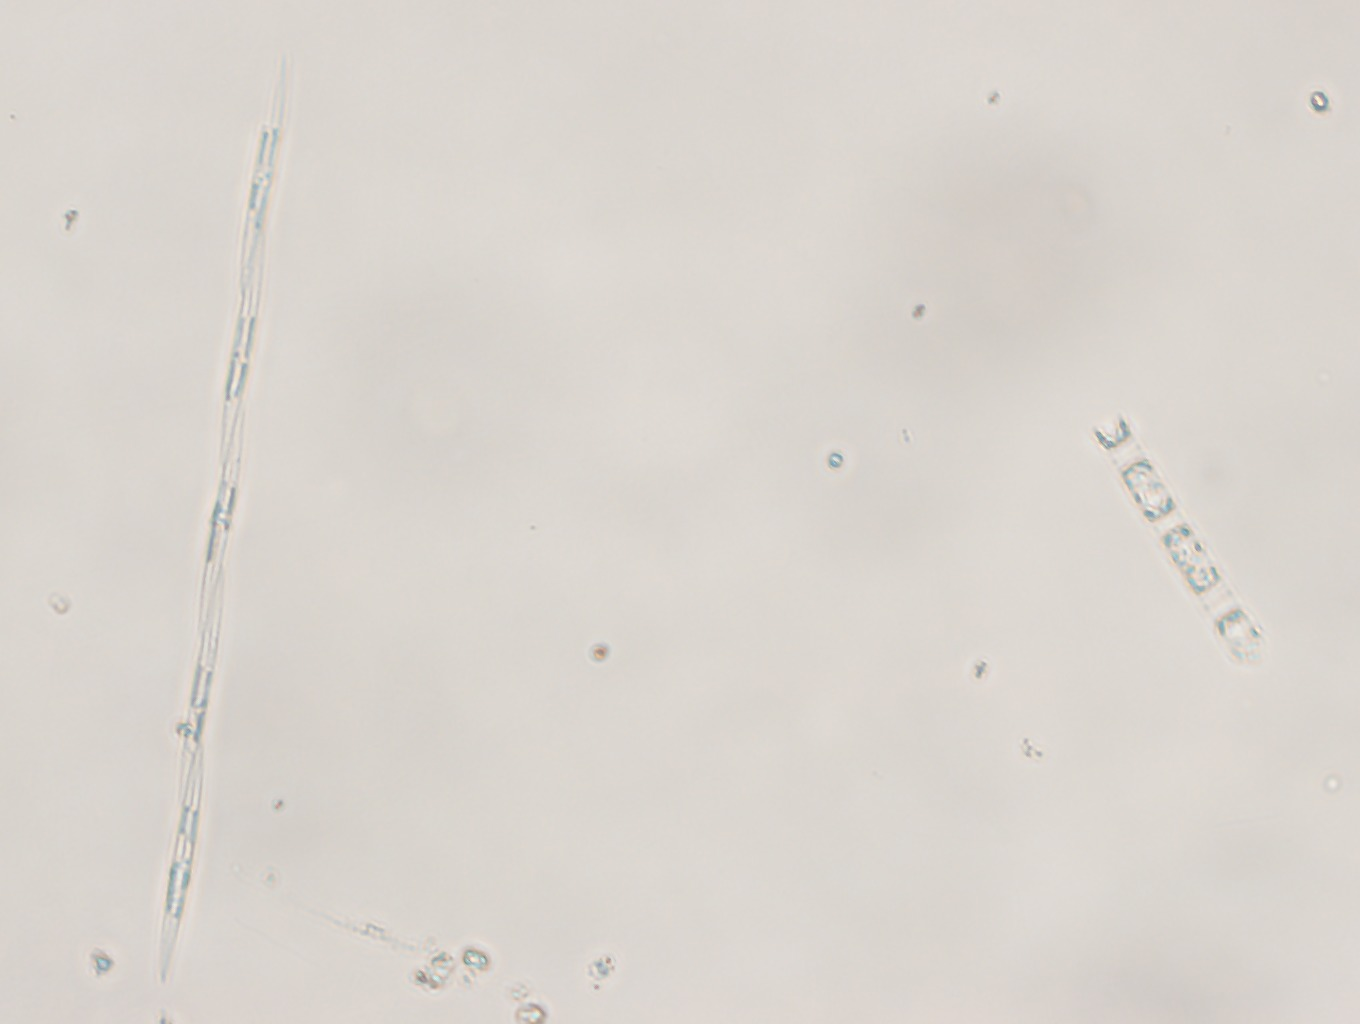detonula pumila: (1097, 370, 1295, 694)
